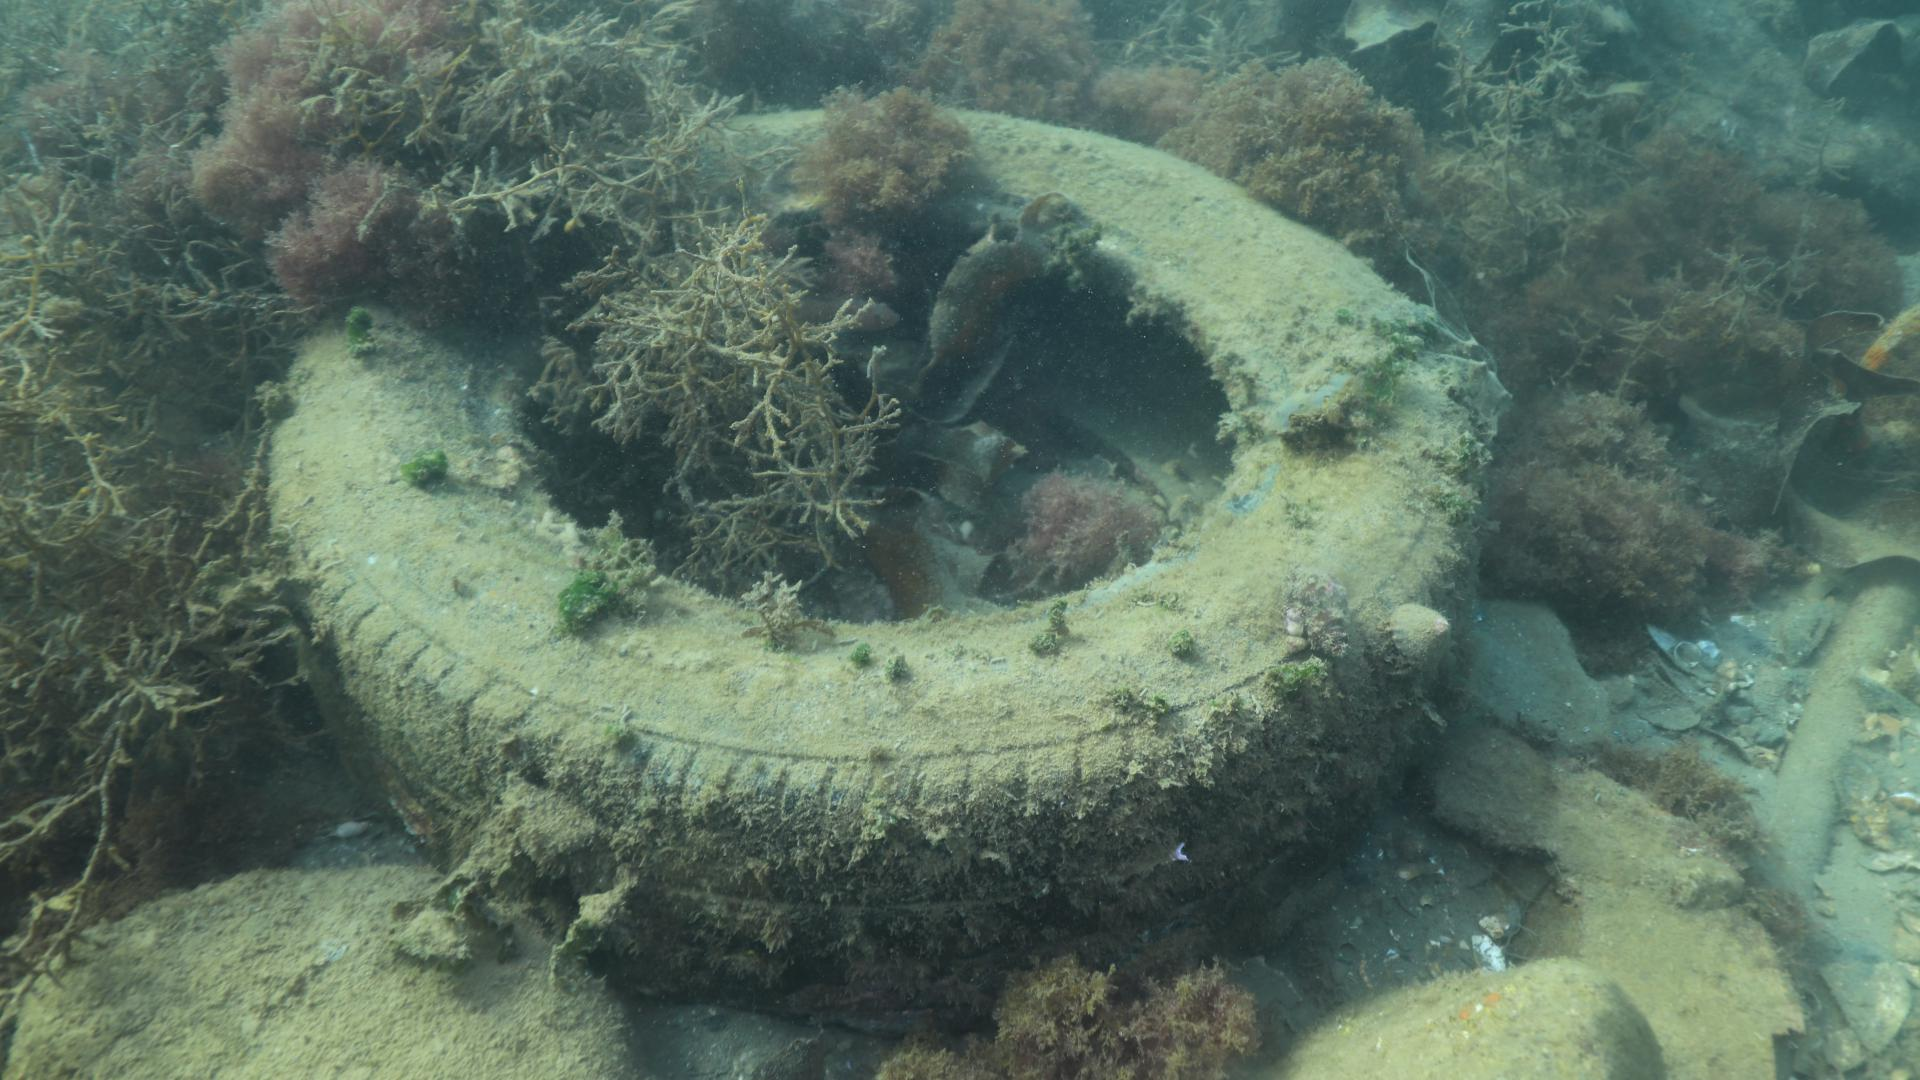tire: (266, 94, 1482, 1015)
